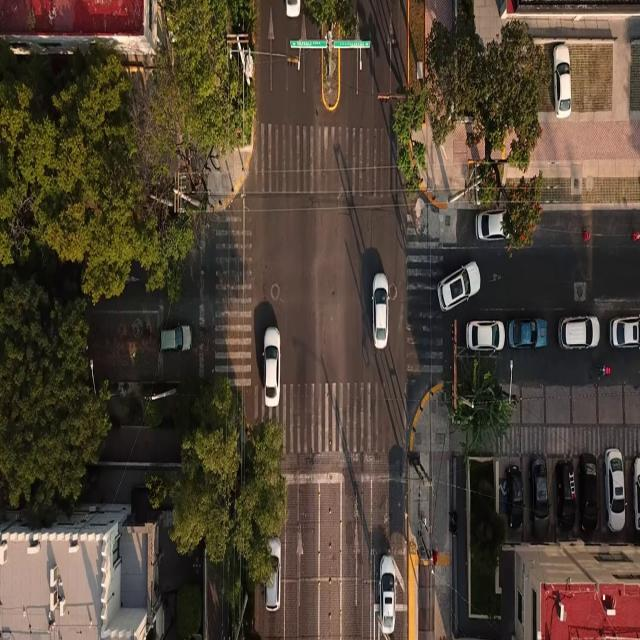car: (438, 262, 480, 311), (604, 448, 626, 532), (529, 456, 548, 540), (579, 454, 597, 533), (556, 459, 575, 531), (379, 555, 395, 635), (559, 317, 599, 349), (264, 328, 280, 407), (553, 44, 570, 118), (372, 273, 388, 349), (466, 320, 505, 351), (507, 319, 547, 348), (505, 465, 523, 528), (265, 538, 280, 611), (476, 209, 505, 240), (610, 317, 639, 347), (160, 325, 192, 352), (633, 457, 639, 531), (286, 0, 300, 17)
